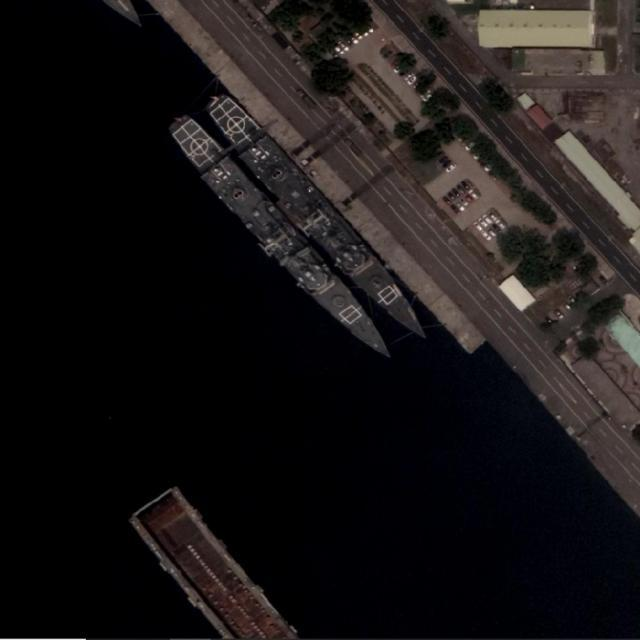Frigate: (160, 107, 407, 377), (195, 84, 442, 354)
